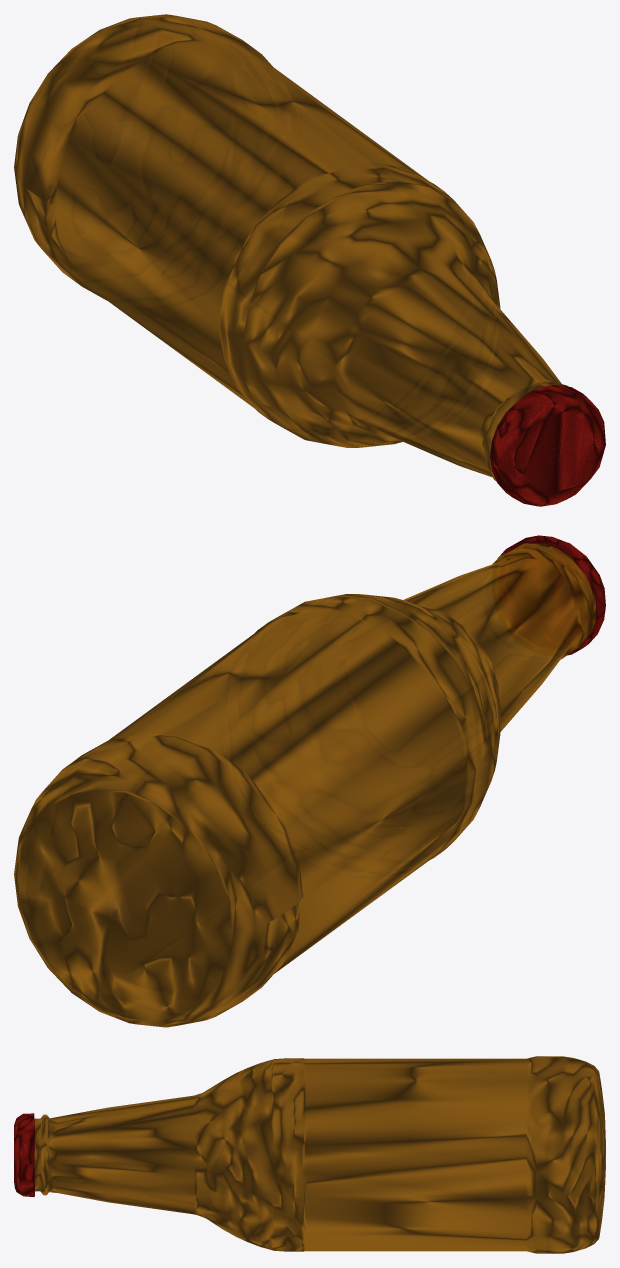
The model's file is model_align.obj.
3 renders of one model, top to bottom at view 1: azimuth 30°, elevation 25°; view 2: azimuth 150°, elevation 25°; view 3: azimuth 270°, elevation 25°, orthographic. The views are drawn at different scales.
Bounding box in the file's own units: 0.0856 × 0.0856 × 0.2555.
